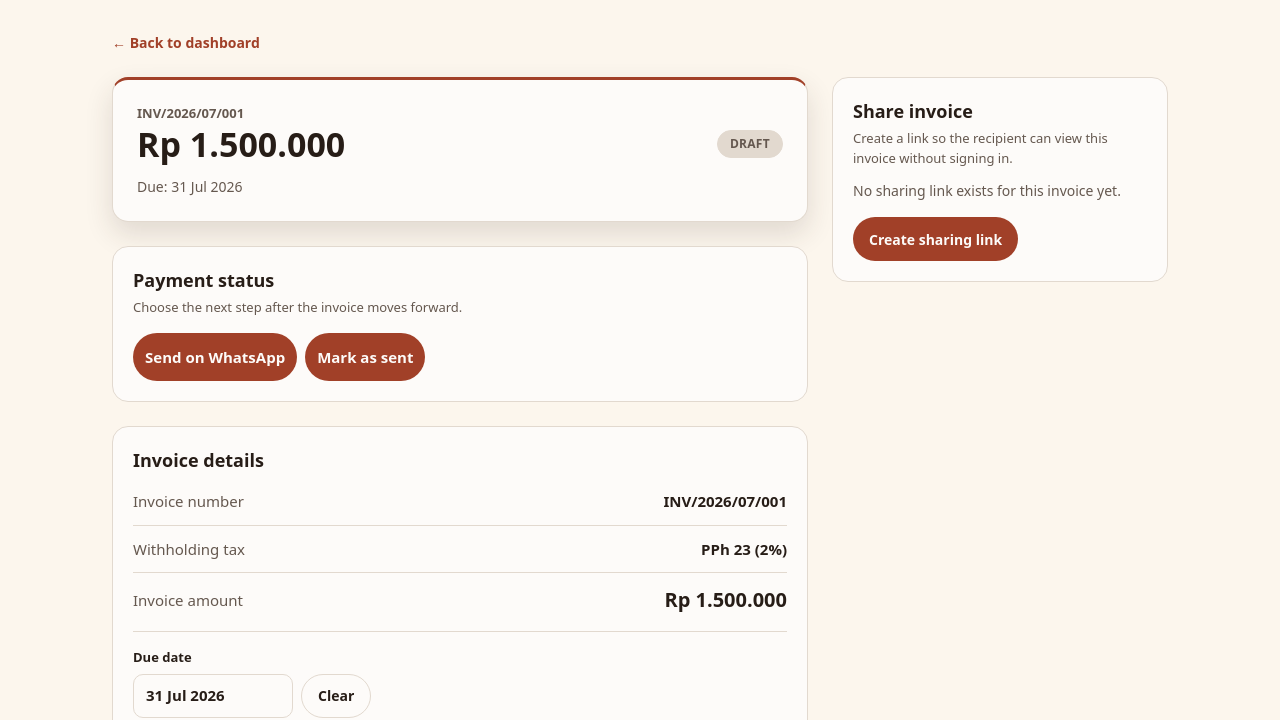
Scenario: InvoiceDetailClient › shows the localized English loading label while a status action is saving
Click the button "Mark as sent" at (365, 357), box [305, 333, 426, 381]
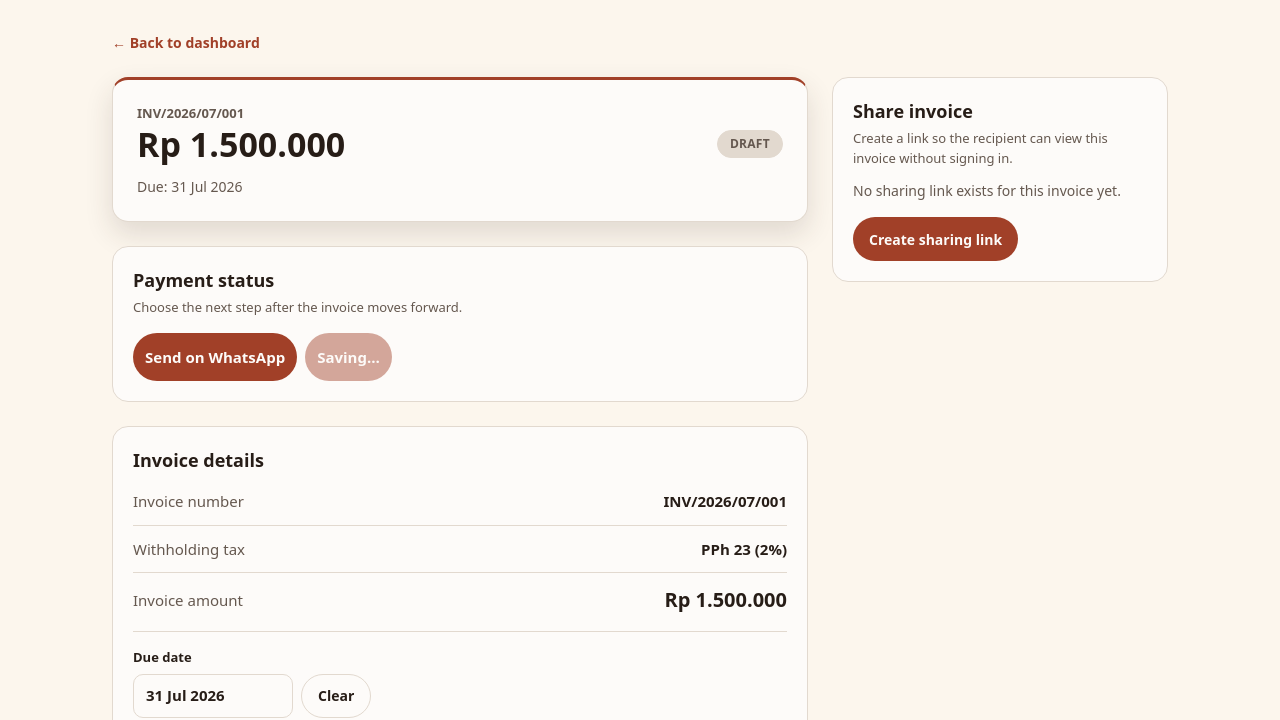
Expected: the button "Saving…" is shown, [305, 333, 392, 381]
